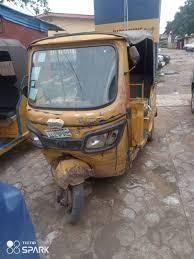keke: (28, 28, 164, 222), (0, 34, 30, 181)
